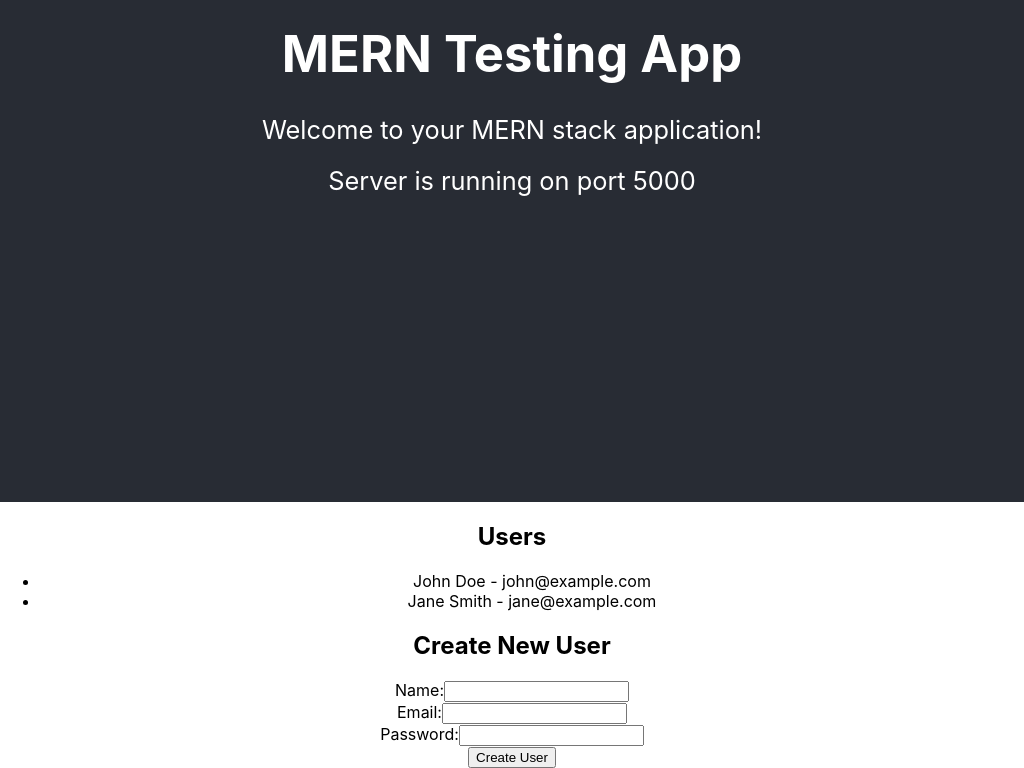
Test: User Management Flow › should handle form validation errors
The width and height of the screenshot is (1024, 768).
(page scrolled)
Try to submit empty form
Click the button "Create User". click: (512, 757)
box: [468,747,556,767]
(page scrolled)
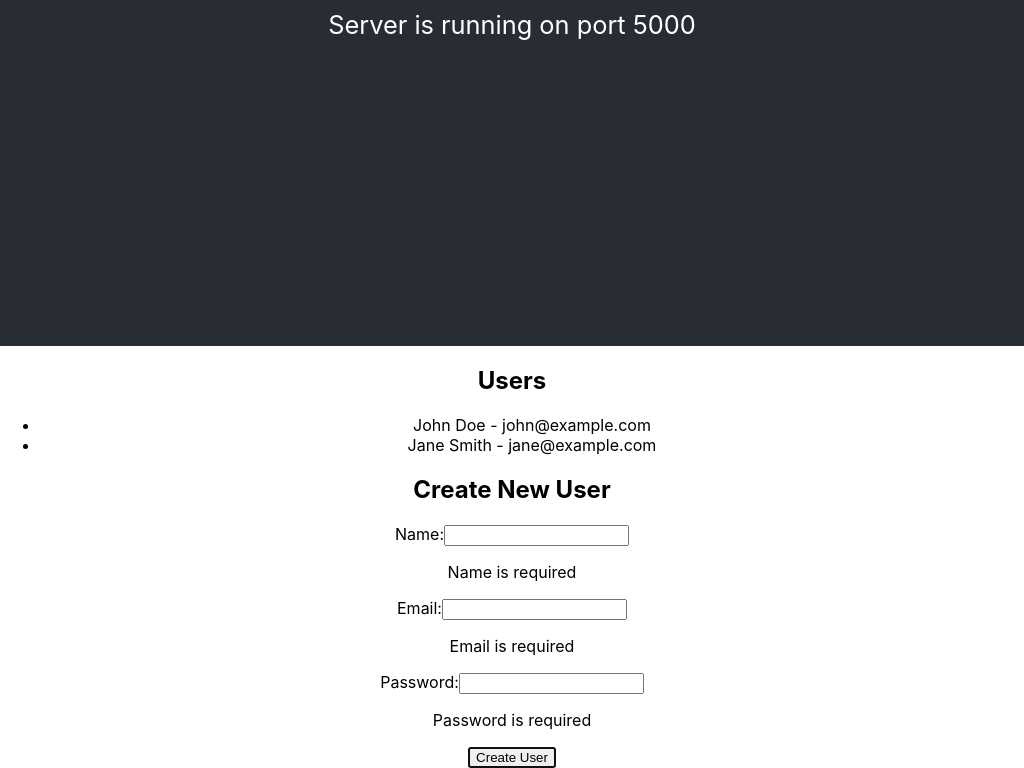
expect the text "Name is required" is shown: met, box [448,562,576,582]
expect the text "Email is required" is shown: met, box [450,636,574,656]
expect the text "Password is required" is shown: met, box [433,710,591,730]
